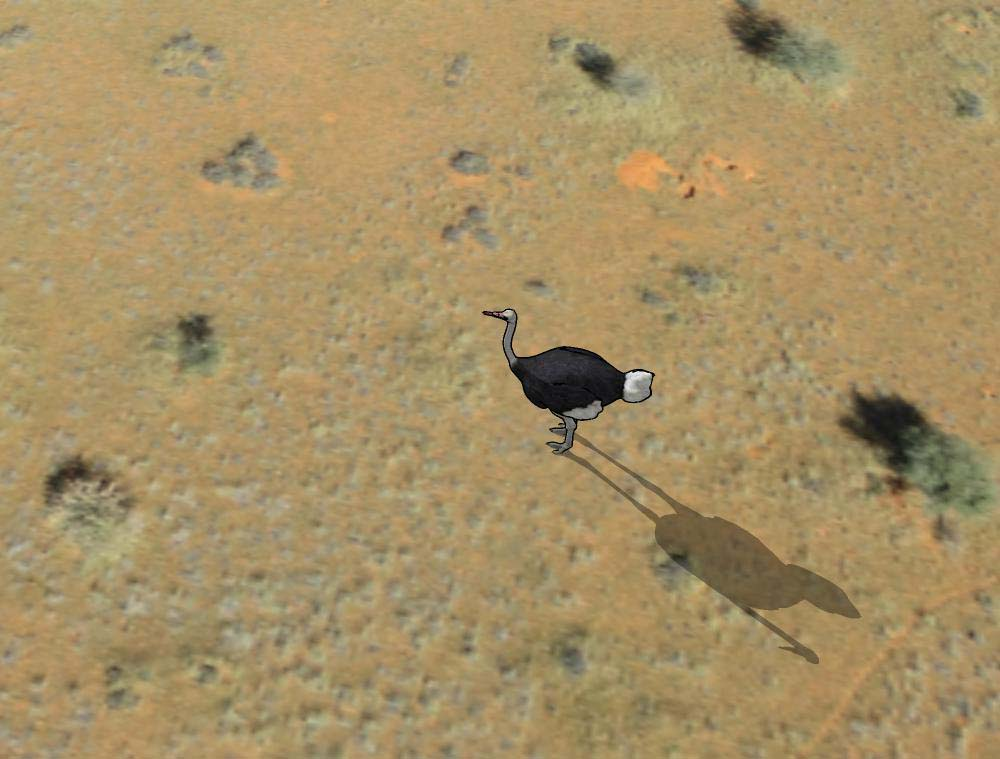ostrich: (477, 299, 663, 459)
